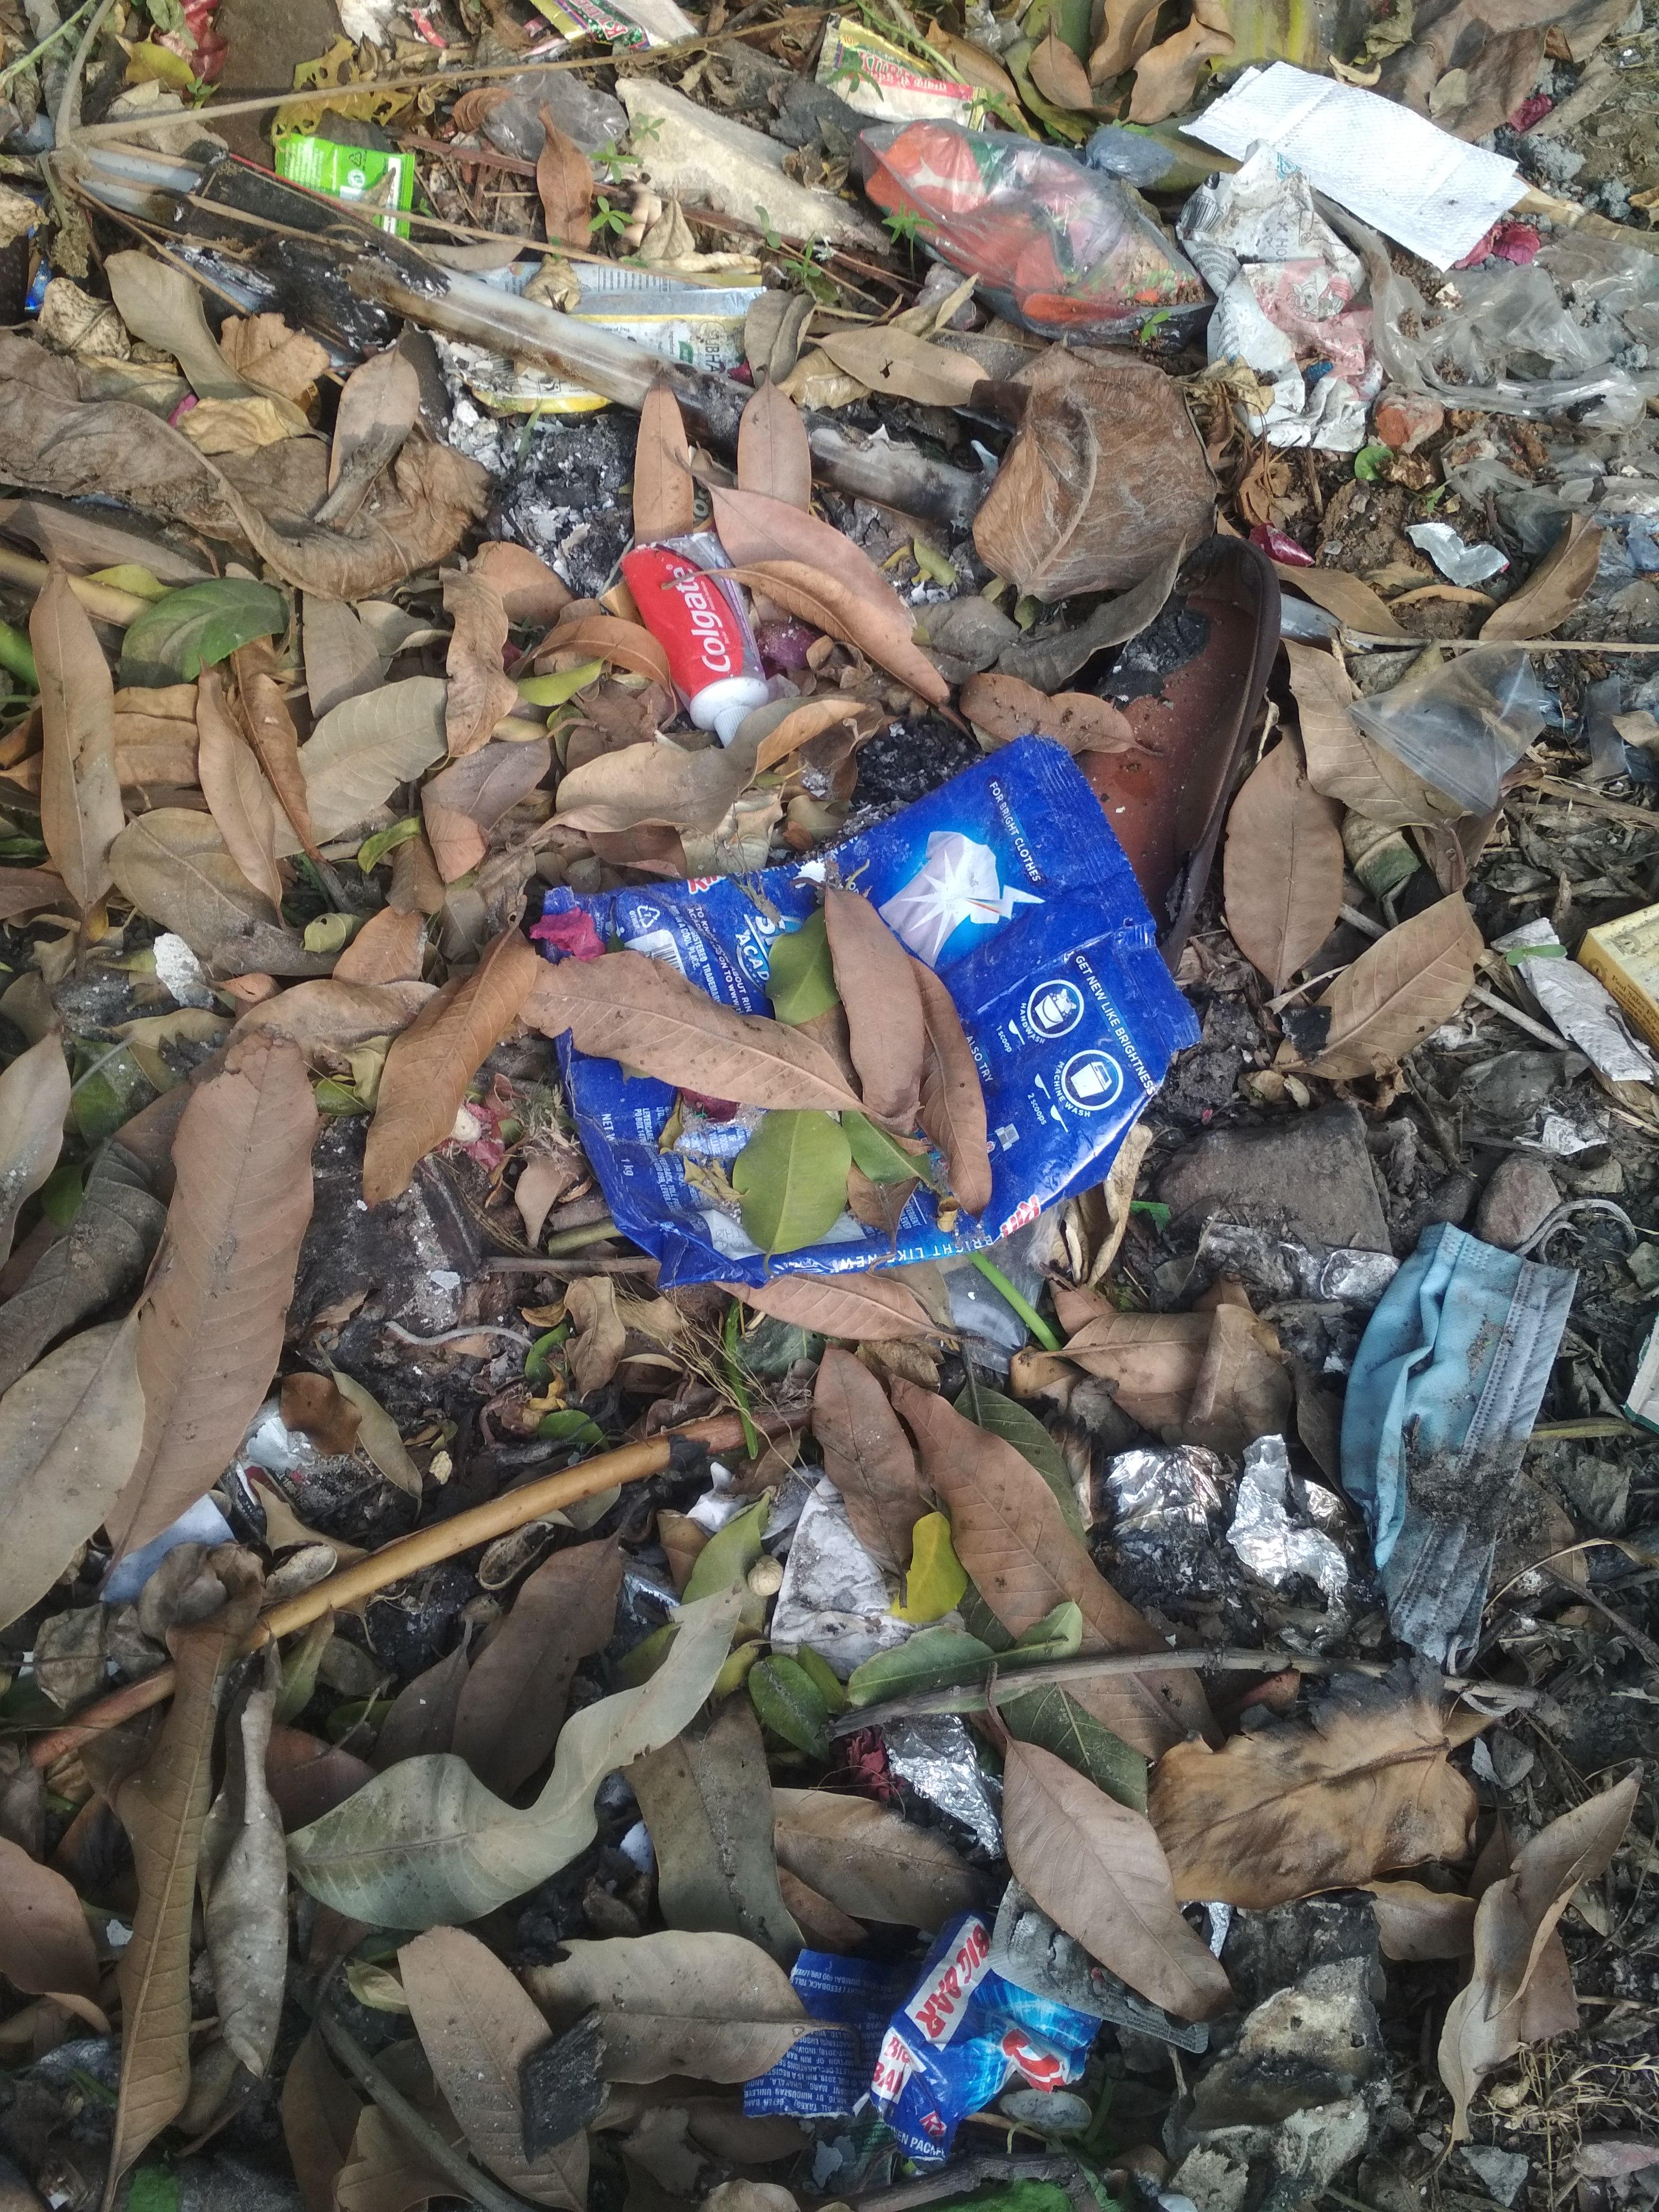trash: (249, 44, 1561, 2212)
